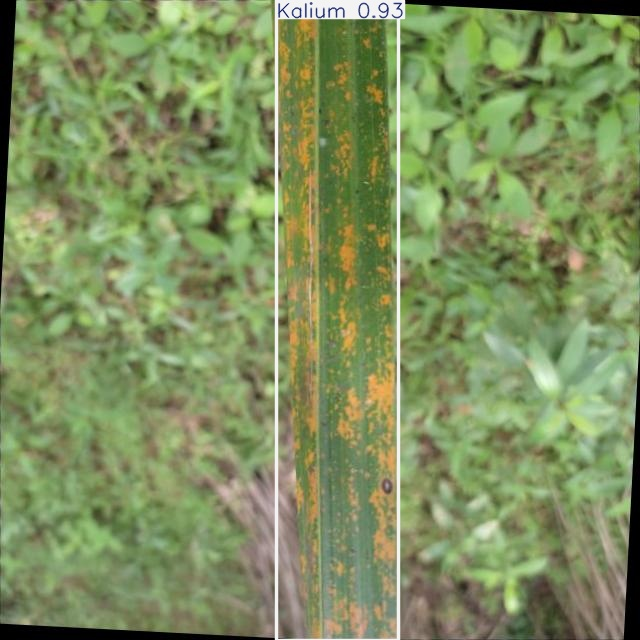Kalium: (276, 0, 399, 640)
